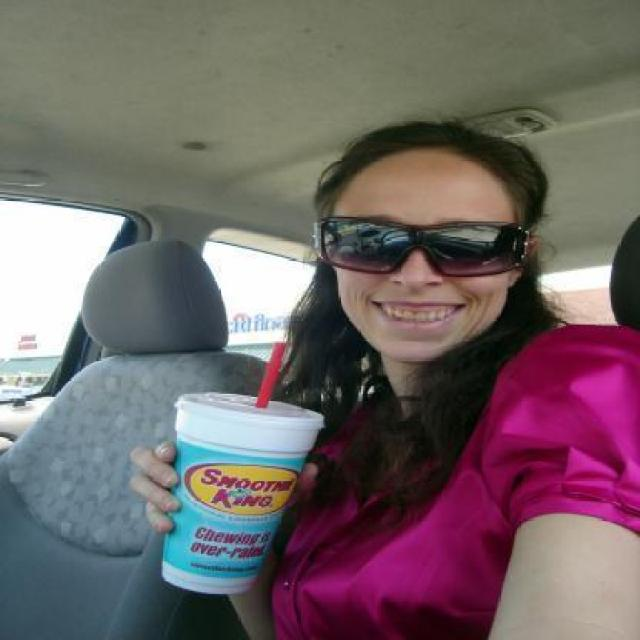face_nomask: (342, 228, 500, 338)
glasses: (324, 202, 548, 275)
hand_noglove: (128, 433, 194, 536)
head_nohelmet: (319, 100, 538, 192)
person: (209, 100, 640, 640)
